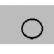no answer: (18, 16, 44, 40)
